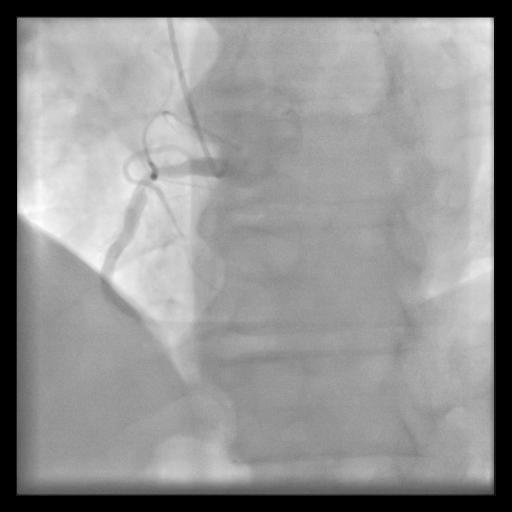Stenosis: (136, 164, 168, 183)
